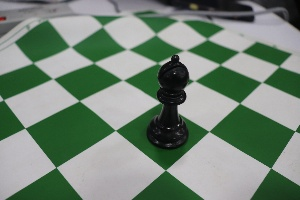black_bishop: (143, 46, 200, 153)
